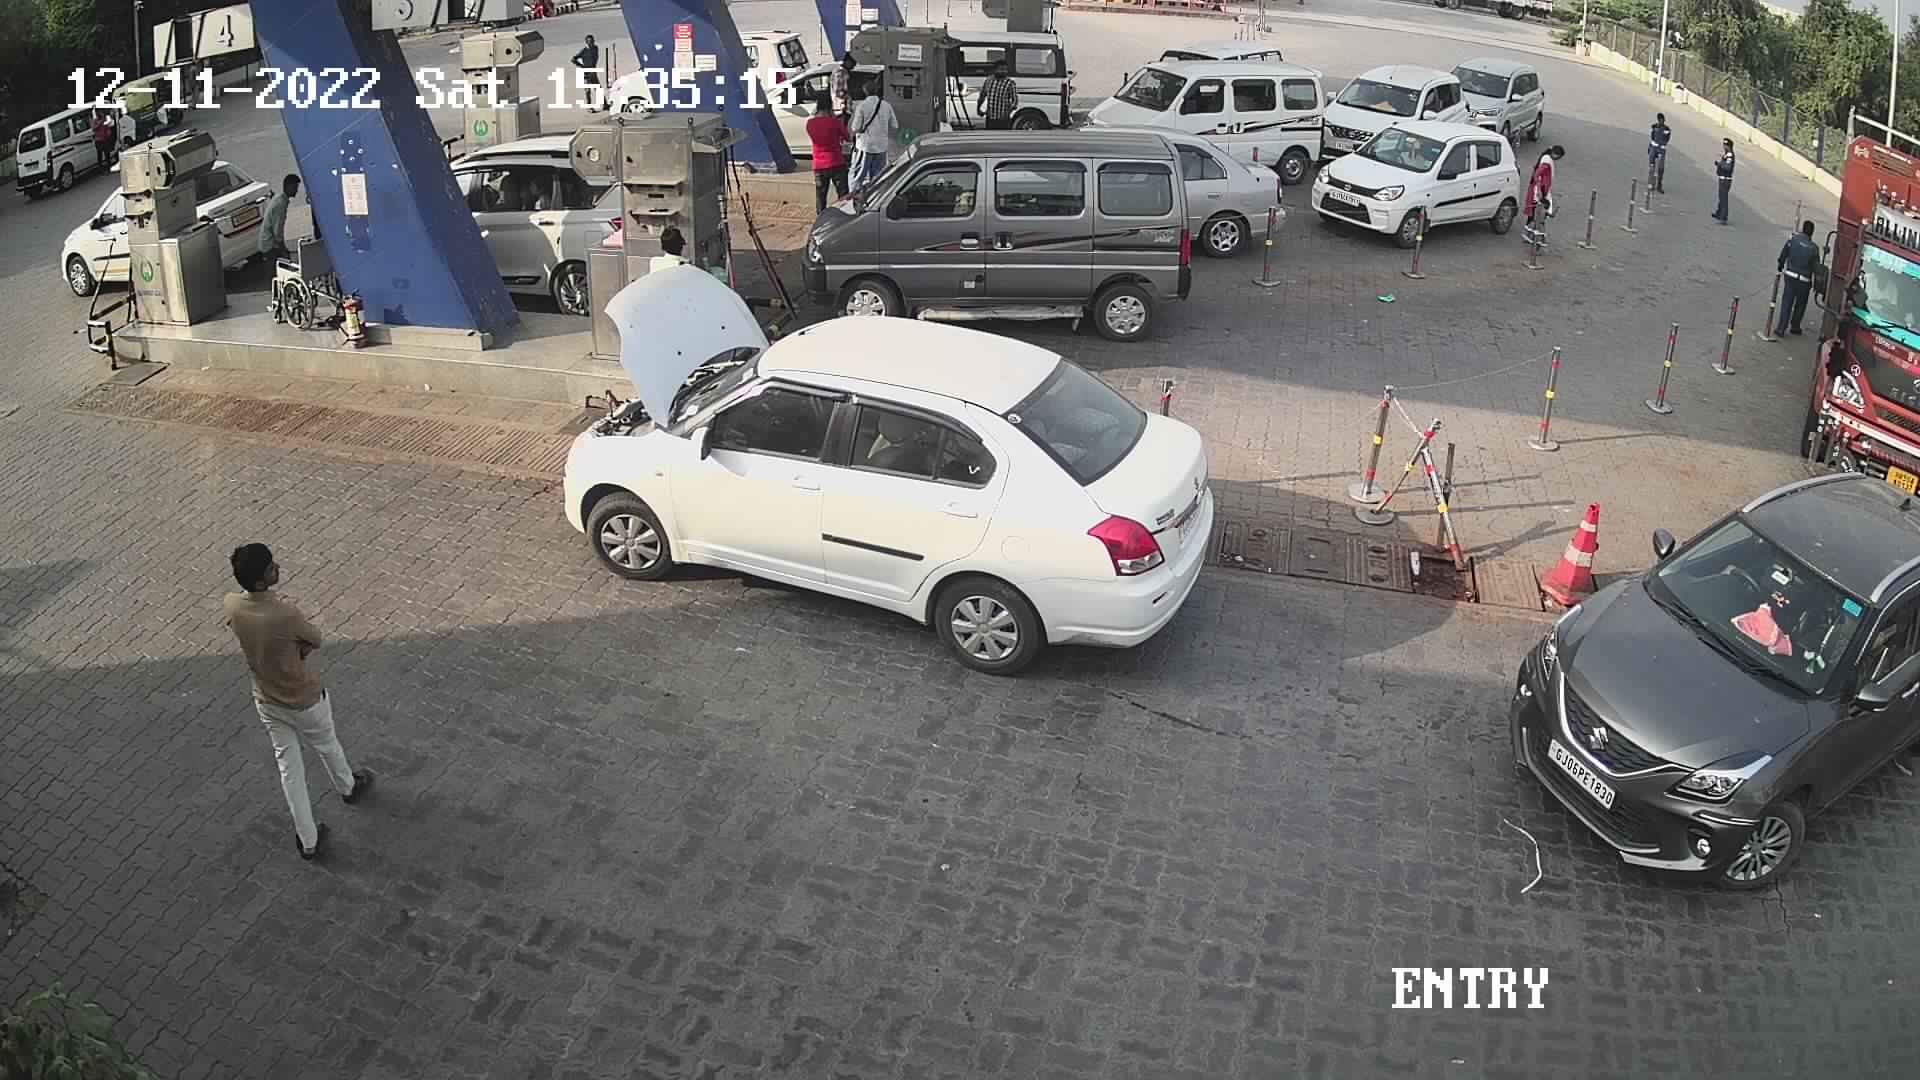Auto: (91, 66, 204, 154)
Car: (547, 257, 1217, 684), (1493, 454, 1920, 899), (815, 129, 1215, 347), (421, 123, 638, 316), (63, 125, 293, 298), (1302, 103, 1535, 256), (1073, 51, 1327, 191), (1039, 120, 1299, 255), (1305, 47, 1519, 179), (0, 88, 167, 202), (934, 18, 1073, 133), (760, 53, 893, 171), (1429, 41, 1552, 152), (731, 20, 818, 105), (1142, 33, 1294, 74)
HMV: (1782, 100, 1917, 514)
